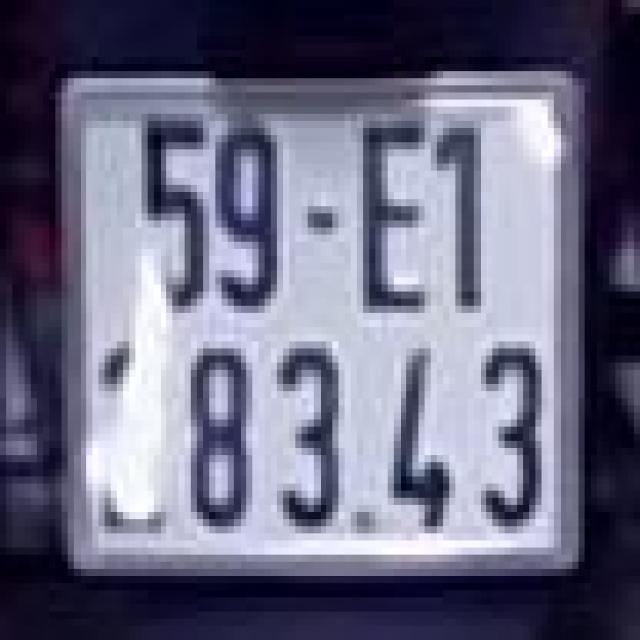1: (431, 114, 498, 327)
3: (477, 338, 557, 530), (274, 338, 348, 537)
4: (384, 345, 464, 530)
5: (132, 103, 212, 324)
8: (184, 334, 258, 534)
9: (216, 103, 290, 317)
E: (357, 107, 437, 320)
